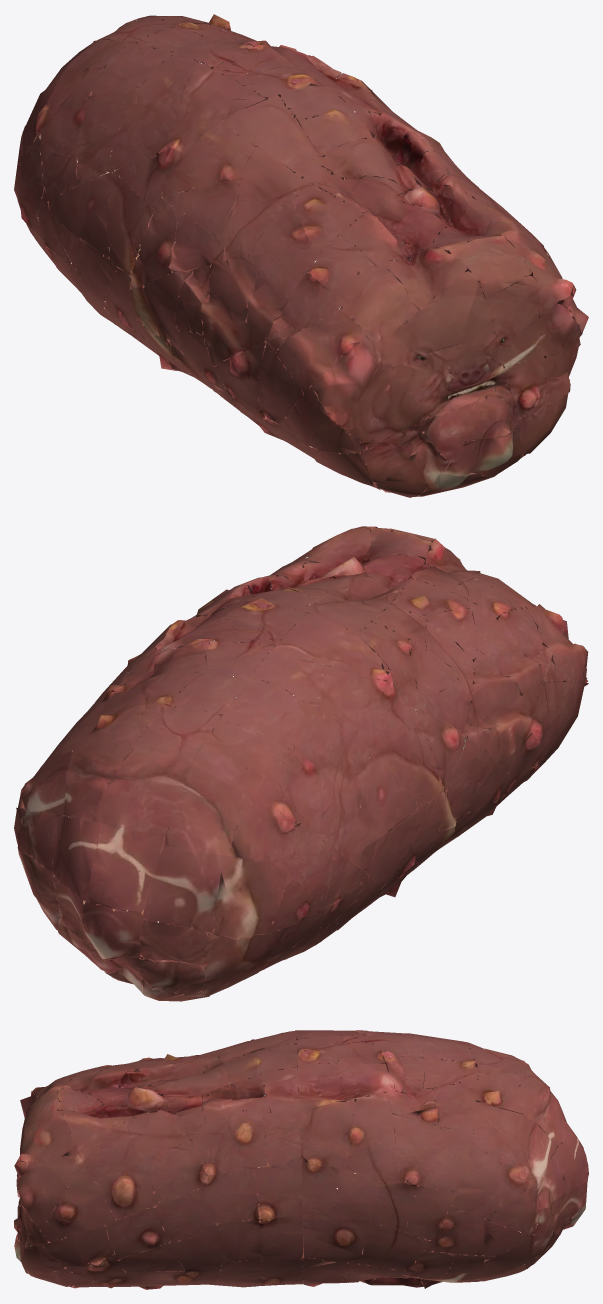
Rendered from warhog-meat.glb.
3 renders of one model, top to bottom at view 1: azimuth 30°, elevation 25°; view 2: azimuth 150°, elevation 25°; view 3: azimuth 270°, elevation 25°, orthographic. The views are drawn at different scales.
Visible parts, largest first — view 1: Mesh_0; view 2: Mesh_0; view 3: Mesh_0.
Part boxes in pixels (x1=…): Mesh_0: x1=14, y1=14, x2=588, y2=497; Mesh_0: x1=14, y1=526, x2=588, y2=1001; Mesh_0: x1=14, y1=1030, x2=588, y2=1289.
Bounding box in the file's own units: 0.9687 × 0.8981 × 2.
Materials: 1 (1 with a texture image).
